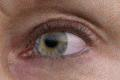eye: (36, 32, 68, 57)
